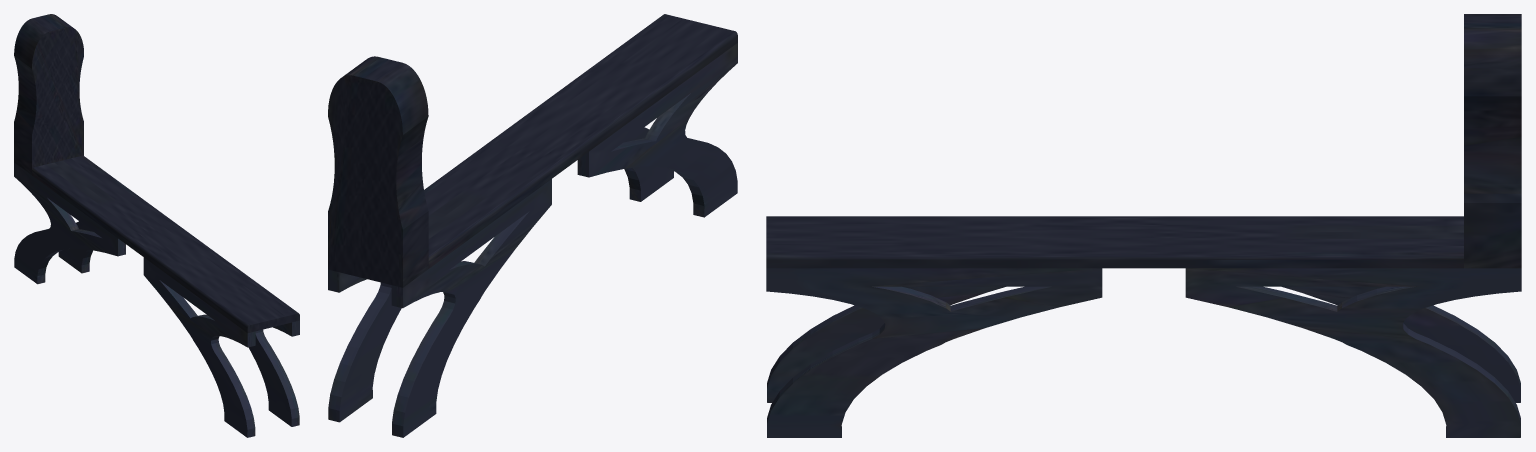
Rendered from chair_6.glb.
3 views of the same model, side by side, from view 1: azimuth 30°, elevation 25°; view 2: azimuth 150°, elevation 25°; view 3: azimuth 270°, elevation 25° (orthographic). The views are drawn at different scales.
Parts seen in each view (by area): view 1: chair_6; view 2: chair_6; view 3: chair_6.
Part boxes in pixels (x1,y1,x2,y2): chair_6: (14,14,299,437); chair_6: (328,14,737,437); chair_6: (766,14,1521,437).
Size of the model in its own units: 0.3102 by 1.39 by 2.4.
1 material, 1 textured.
